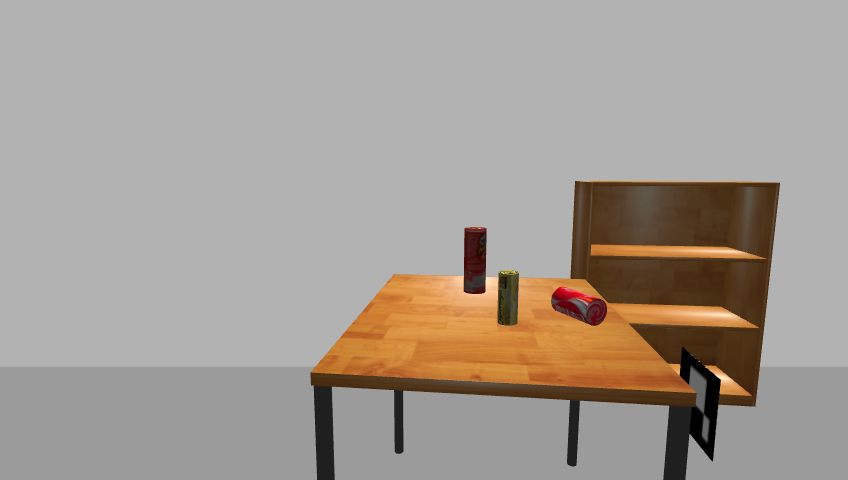aruco marker: (677, 348, 723, 461)
biscuits pack: (497, 270, 520, 327)
bookshelf: (566, 178, 787, 414)
coke can: (549, 286, 609, 326)
dinner table: (305, 272, 702, 479)
pringles can: (461, 226, 489, 295)
